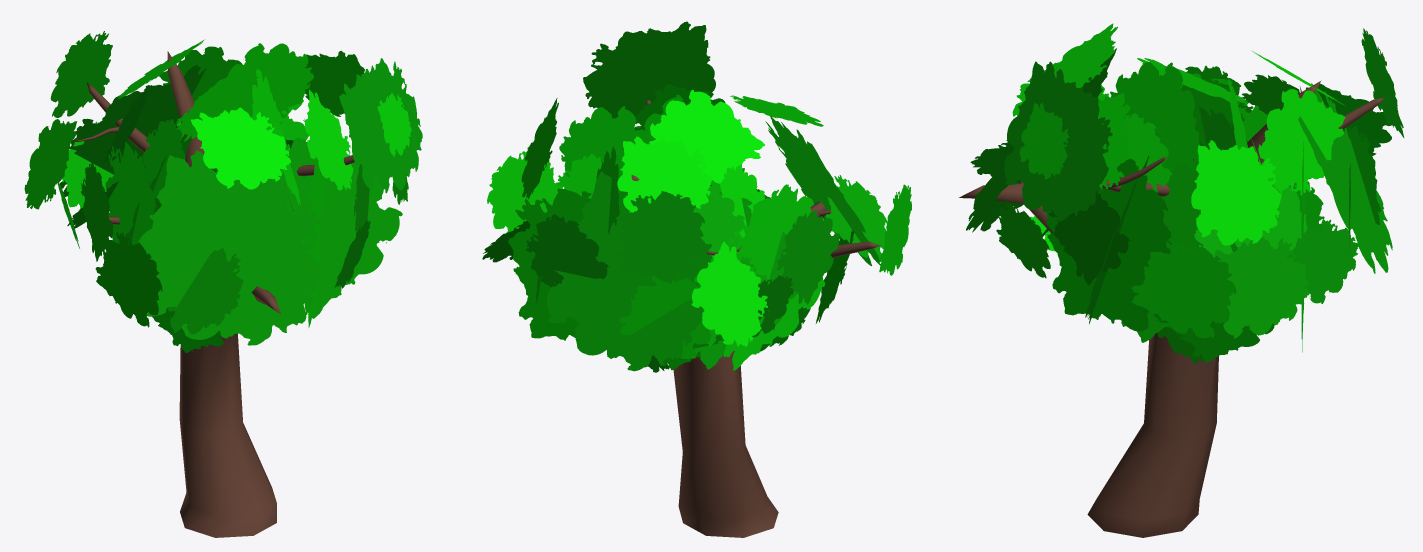
File: Tree1_Leaf_Type2.fbx
3 renders of one model, left to right at view 1: azimuth 30°, elevation 25°; view 2: azimuth 150°, elevation 25°; view 3: azimuth 270°, elevation 25°, orthographic. The views are drawn at different scales.
Visible parts, largest first — view 1: LeafClump, Tree1ExportAlt; view 2: LeafClump, Tree1ExportAlt; view 3: LeafClump, Tree1ExportAlt.
Part boxes in pixels (box(x1,y1,x2,y2)): LeafClump: box(24, 31, 422, 352); Tree1ExportAlt: box(75, 51, 354, 537); LeafClump: box(482, 21, 911, 372); Tree1ExportAlt: box(631, 100, 880, 537); LeafClump: box(966, 23, 1404, 363); Tree1ExportAlt: box(959, 80, 1385, 537).
Bounding box in the file's own units: 12.42 × 15.37 × 12.68.
